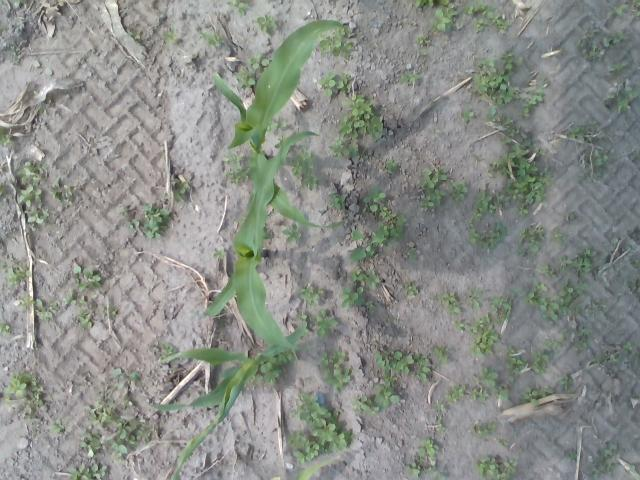Maize: (209, 20, 357, 230), (204, 130, 318, 351), (156, 325, 306, 480)
Weeds: (282, 392, 356, 464), (487, 138, 551, 218), (470, 51, 524, 108), (336, 93, 384, 140), (3, 370, 45, 423), (103, 417, 152, 462), (286, 145, 322, 191), (370, 340, 415, 376), (318, 348, 353, 394), (250, 349, 296, 384), (84, 382, 118, 426), (467, 314, 500, 358), (519, 75, 549, 118), (486, 107, 520, 144), (348, 229, 386, 262), (318, 25, 353, 60), (418, 168, 446, 211), (475, 455, 520, 480), (374, 212, 408, 245), (140, 203, 170, 240), (580, 148, 610, 182), (596, 442, 626, 475), (373, 376, 400, 411), (223, 150, 250, 185), (606, 85, 638, 114), (539, 295, 571, 324), (429, 0, 457, 33), (517, 226, 545, 256), (478, 222, 508, 250), (310, 308, 338, 337), (72, 265, 102, 292), (348, 264, 381, 288), (16, 160, 46, 186), (68, 461, 108, 480), (484, 6, 512, 33), (570, 247, 596, 276), (76, 429, 102, 458), (363, 186, 388, 216), (505, 344, 527, 378), (520, 384, 554, 406), (488, 294, 512, 325), (108, 366, 140, 389), (566, 121, 597, 144), (50, 178, 74, 206), (472, 188, 492, 221), (329, 136, 359, 158), (432, 292, 462, 314), (558, 280, 588, 302), (162, 177, 188, 202), (572, 322, 594, 350), (417, 437, 439, 465), (523, 280, 547, 305), (18, 184, 42, 208), (465, 284, 487, 310), (428, 344, 454, 366), (26, 206, 50, 229), (252, 14, 278, 35), (352, 396, 379, 416), (13, 294, 43, 312), (198, 28, 225, 48), (318, 70, 337, 98), (340, 286, 364, 308), (299, 285, 324, 306), (530, 349, 550, 375), (5, 264, 31, 284), (471, 421, 498, 440), (448, 178, 468, 203), (476, 366, 498, 388), (602, 29, 626, 49), (574, 30, 598, 50), (247, 52, 272, 71), (414, 354, 432, 380), (234, 68, 256, 88), (35, 303, 58, 322), (333, 72, 352, 94), (158, 342, 178, 362), (226, 0, 251, 16), (282, 222, 301, 243), (47, 418, 69, 436), (464, 216, 478, 244), (461, 0, 487, 15), (293, 310, 309, 334), (585, 298, 608, 314), (326, 192, 346, 210), (445, 384, 465, 402), (423, 465, 446, 480), (606, 2, 628, 17), (162, 28, 180, 46), (404, 460, 421, 479), (539, 336, 562, 350), (556, 254, 572, 274), (539, 264, 559, 280), (32, 60, 52, 76), (63, 294, 85, 308), (76, 310, 93, 328), (491, 386, 510, 402), (266, 116, 286, 131), (582, 45, 602, 59), (610, 60, 630, 74), (400, 70, 420, 84), (624, 278, 640, 295), (558, 373, 573, 391), (611, 237, 630, 251), (460, 104, 474, 122), (10, 44, 22, 64), (550, 228, 564, 245), (402, 282, 419, 296), (0, 125, 11, 146), (590, 352, 608, 364), (473, 18, 487, 33), (506, 287, 526, 297), (100, 305, 118, 316), (620, 341, 638, 352), (383, 159, 398, 172), (124, 218, 140, 230), (436, 414, 446, 433), (630, 0, 640, 18), (120, 394, 135, 406), (126, 28, 141, 40), (588, 465, 600, 480), (0, 321, 10, 338), (571, 303, 584, 316), (274, 134, 286, 148), (598, 258, 612, 270), (414, 34, 430, 44), (454, 318, 465, 332), (408, 246, 417, 262), (496, 436, 508, 448), (212, 248, 225, 259), (414, 0, 434, 7), (262, 226, 272, 240), (435, 402, 447, 413), (8, 0, 26, 7), (117, 207, 129, 217), (608, 352, 618, 364), (470, 388, 480, 400), (567, 450, 578, 460), (480, 390, 489, 402), (472, 154, 484, 162), (0, 260, 7, 273), (432, 128, 441, 138), (217, 316, 226, 326), (236, 216, 247, 224), (559, 328, 567, 338), (366, 300, 374, 309), (633, 258, 640, 268), (388, 316, 397, 323), (37, 105, 44, 114), (0, 181, 4, 196), (420, 48, 427, 56), (550, 437, 556, 443), (0, 26, 4, 32)
